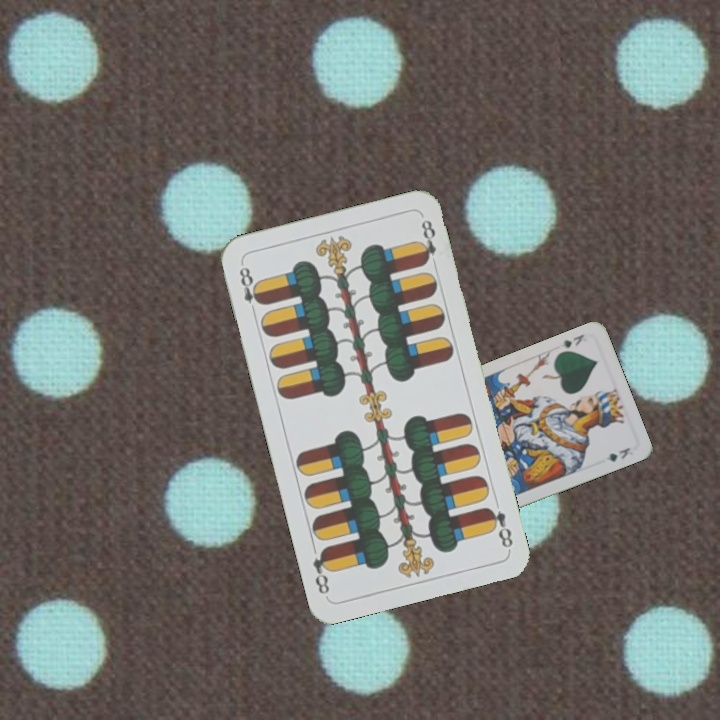E8: (235, 263, 266, 318), (482, 503, 516, 551)
GK: (558, 330, 587, 351)
